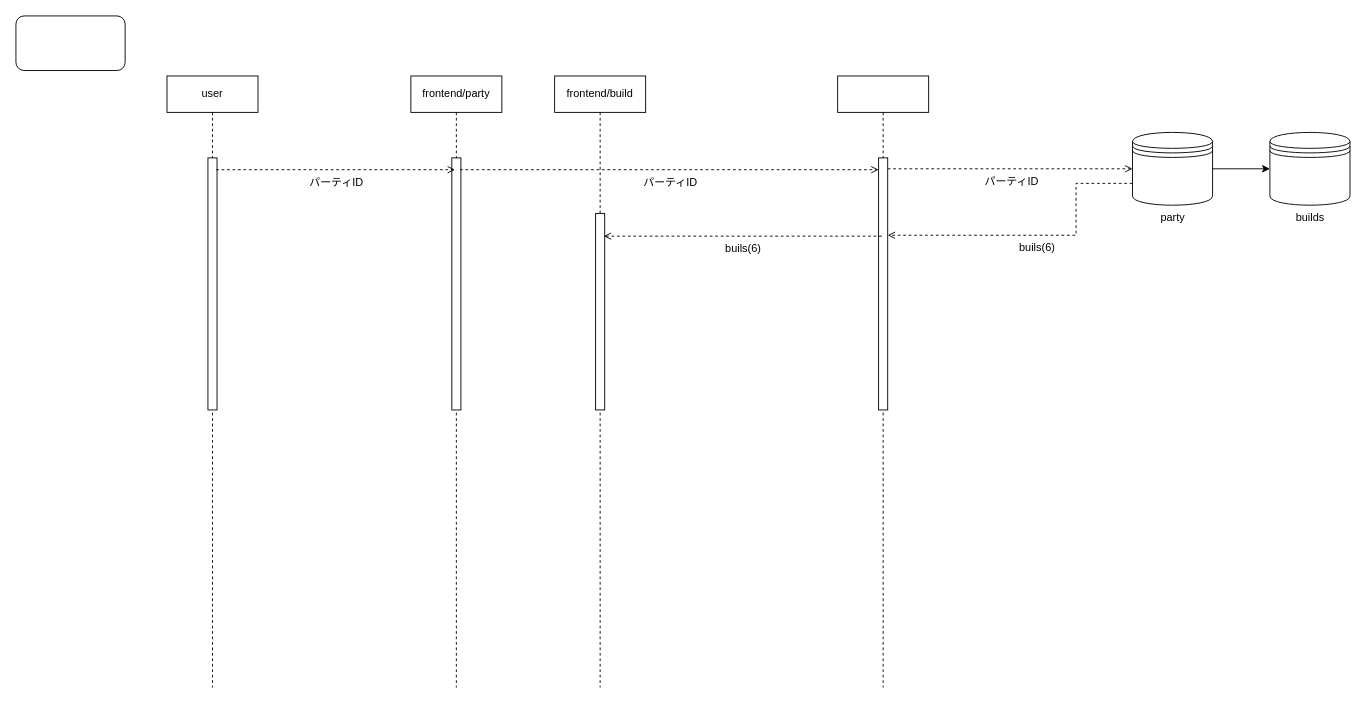
Image size: 1366x703. Some labels were removed from this diagram. Each missing label, with the box of its shape:
backend /party: (837, 75, 929, 688)
既存の場合: (15, 15, 125, 71)
